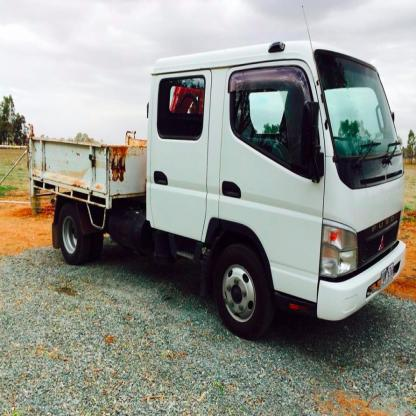truck: (29, 41, 416, 333)
